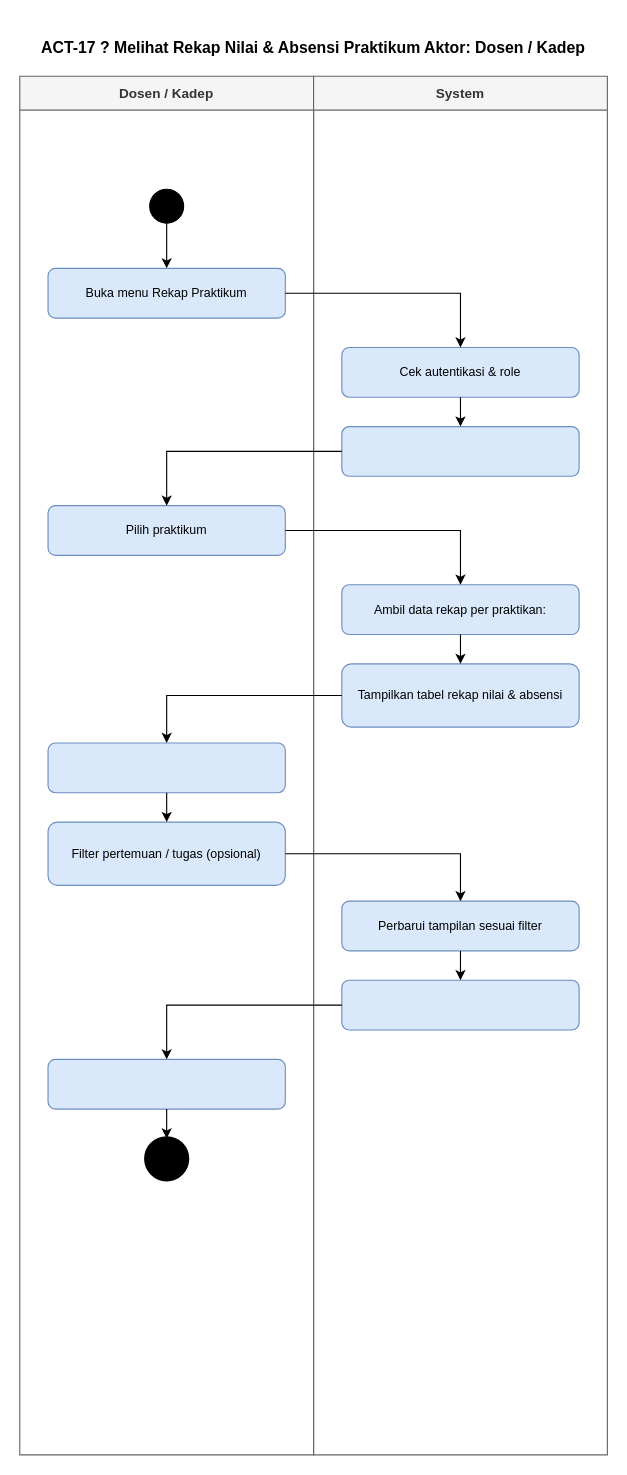
The diagram is 627 pixels wide and 1475 high, and some of its shapes have lost their labels. Each missing label, with the centre of its shape:
"Lihat detail rekap" belongs at (166,1083).
"Lihat rekap" belongs at (166,767).
"Perbarui tampilan" belongs at (460,1004).
"Tampilkan daftar praktikum" belongs at (460,450).
